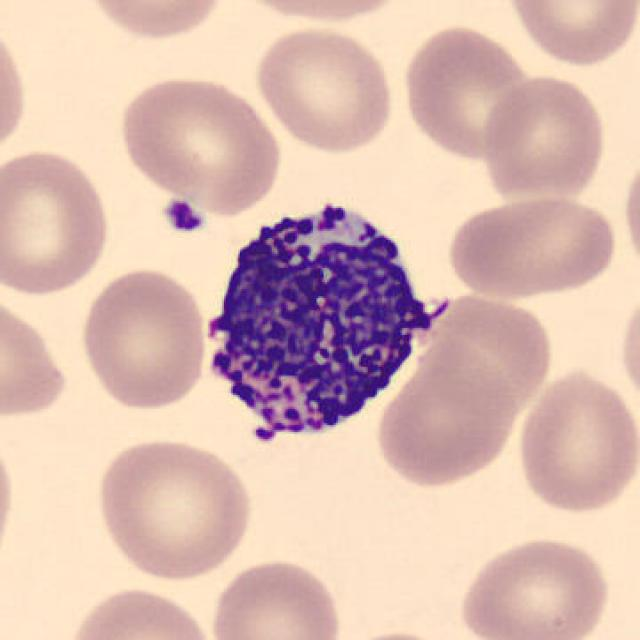Basophil: (187, 185, 455, 467)
Platelets: (160, 196, 208, 236)
RBC: (90, 432, 258, 584), (114, 70, 286, 214), (372, 330, 522, 492), (398, 21, 539, 164), (443, 190, 622, 302), (251, 21, 398, 157), (76, 264, 210, 412), (512, 364, 638, 518), (476, 72, 610, 204), (0, 143, 114, 298), (453, 532, 615, 640), (425, 292, 548, 423), (206, 553, 346, 640), (0, 286, 73, 425), (502, 0, 638, 71), (62, 582, 219, 640), (78, 0, 232, 42), (225, 0, 412, 26), (0, 16, 32, 164), (615, 280, 640, 412), (0, 423, 20, 578), (618, 142, 640, 278), (322, 626, 471, 640)
